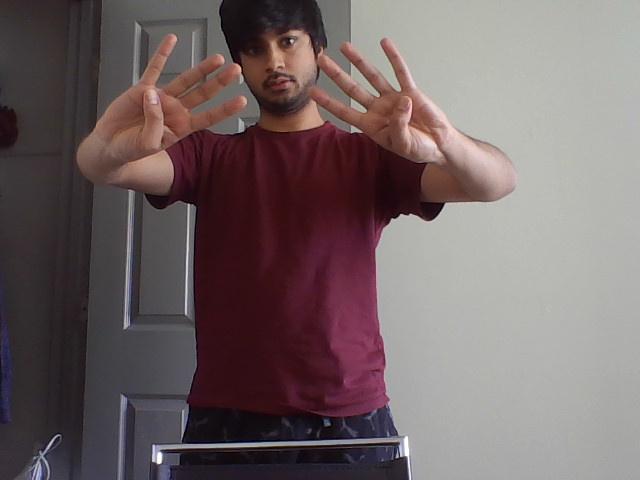four: (142, 29, 253, 131), (306, 36, 435, 121)
